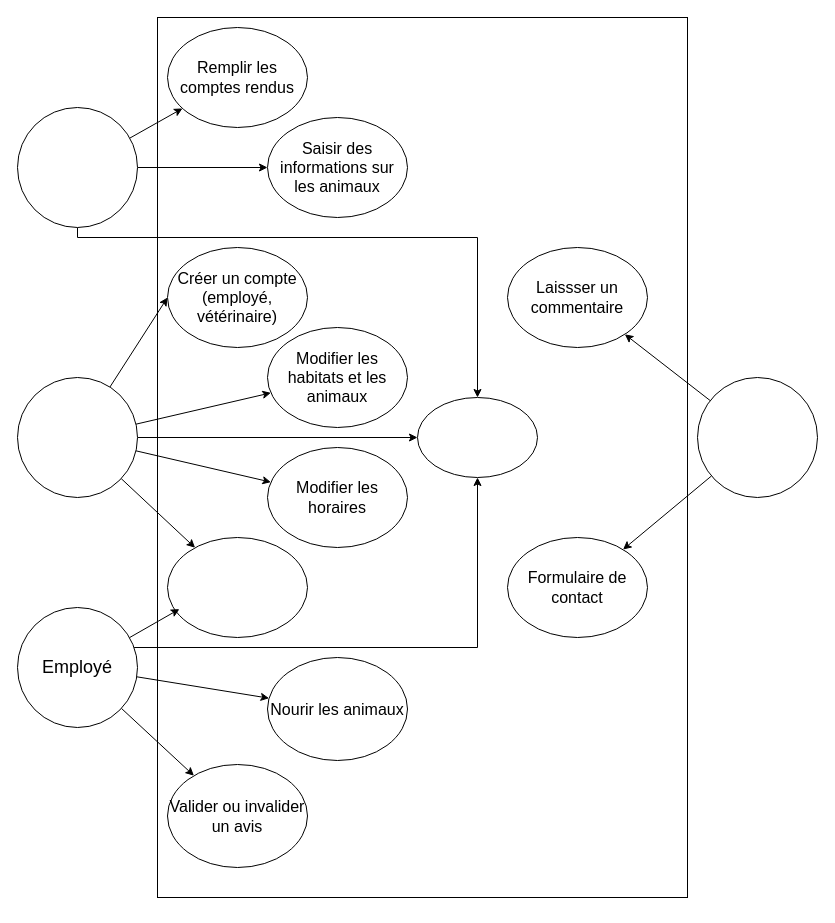
Image size: 835x923. Some labels were removed from this diagram. The centre of each missing label's shape, as x and y in pixels:
"Administrateur" goes at pixel 77 437.
"Connexion" goes at pixel 477 437.
"Modifier les services" goes at pixel 237 587.
"Visiteur" goes at pixel 757 437.
"Vétérinaire" goes at pixel 77 167.
